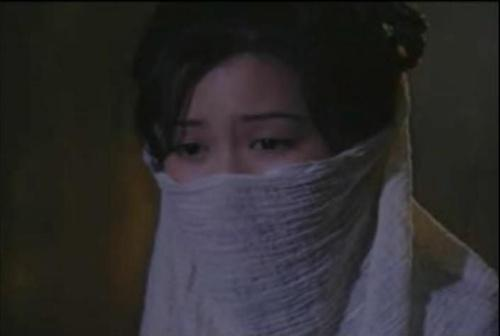OK: (162, 110, 331, 279)
